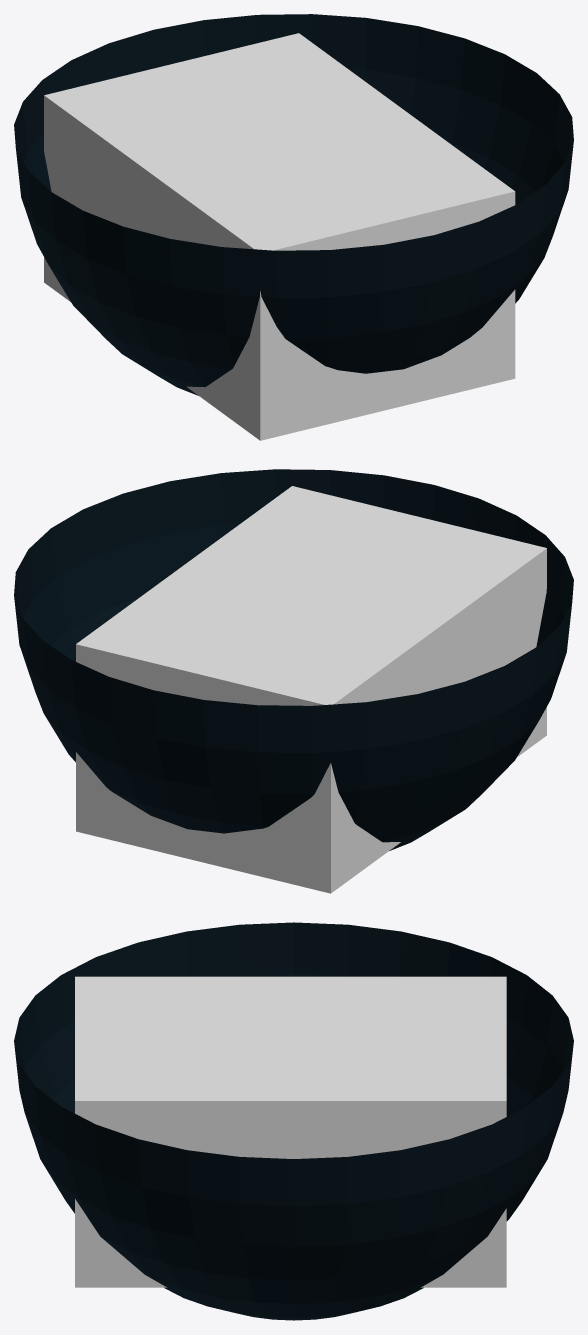
3 views of the same model, one above another, from view 1: azimuth 30°, elevation 25°; view 2: azimuth 150°, elevation 25°; view 3: azimuth 270°, elevation 25° (orthographic).
Visible parts, largest first — view 1: 球体, 立方体; view 2: 球体, 立方体; view 3: 球体, 立方体.
Part boxes in pixels (left/top/right/bottom): 球体: left=14, top=14, right=573, bottom=395; 立方体: left=44, top=33, right=515, bottom=440; 球体: left=14, top=469, right=573, bottom=850; 立方体: left=76, top=486, right=546, bottom=893; 球体: left=14, top=922, right=573, bottom=1320; 立方体: left=75, top=976, right=506, bottom=1287.
Bounding box in the file's own units: 258 × 258 × 132.
